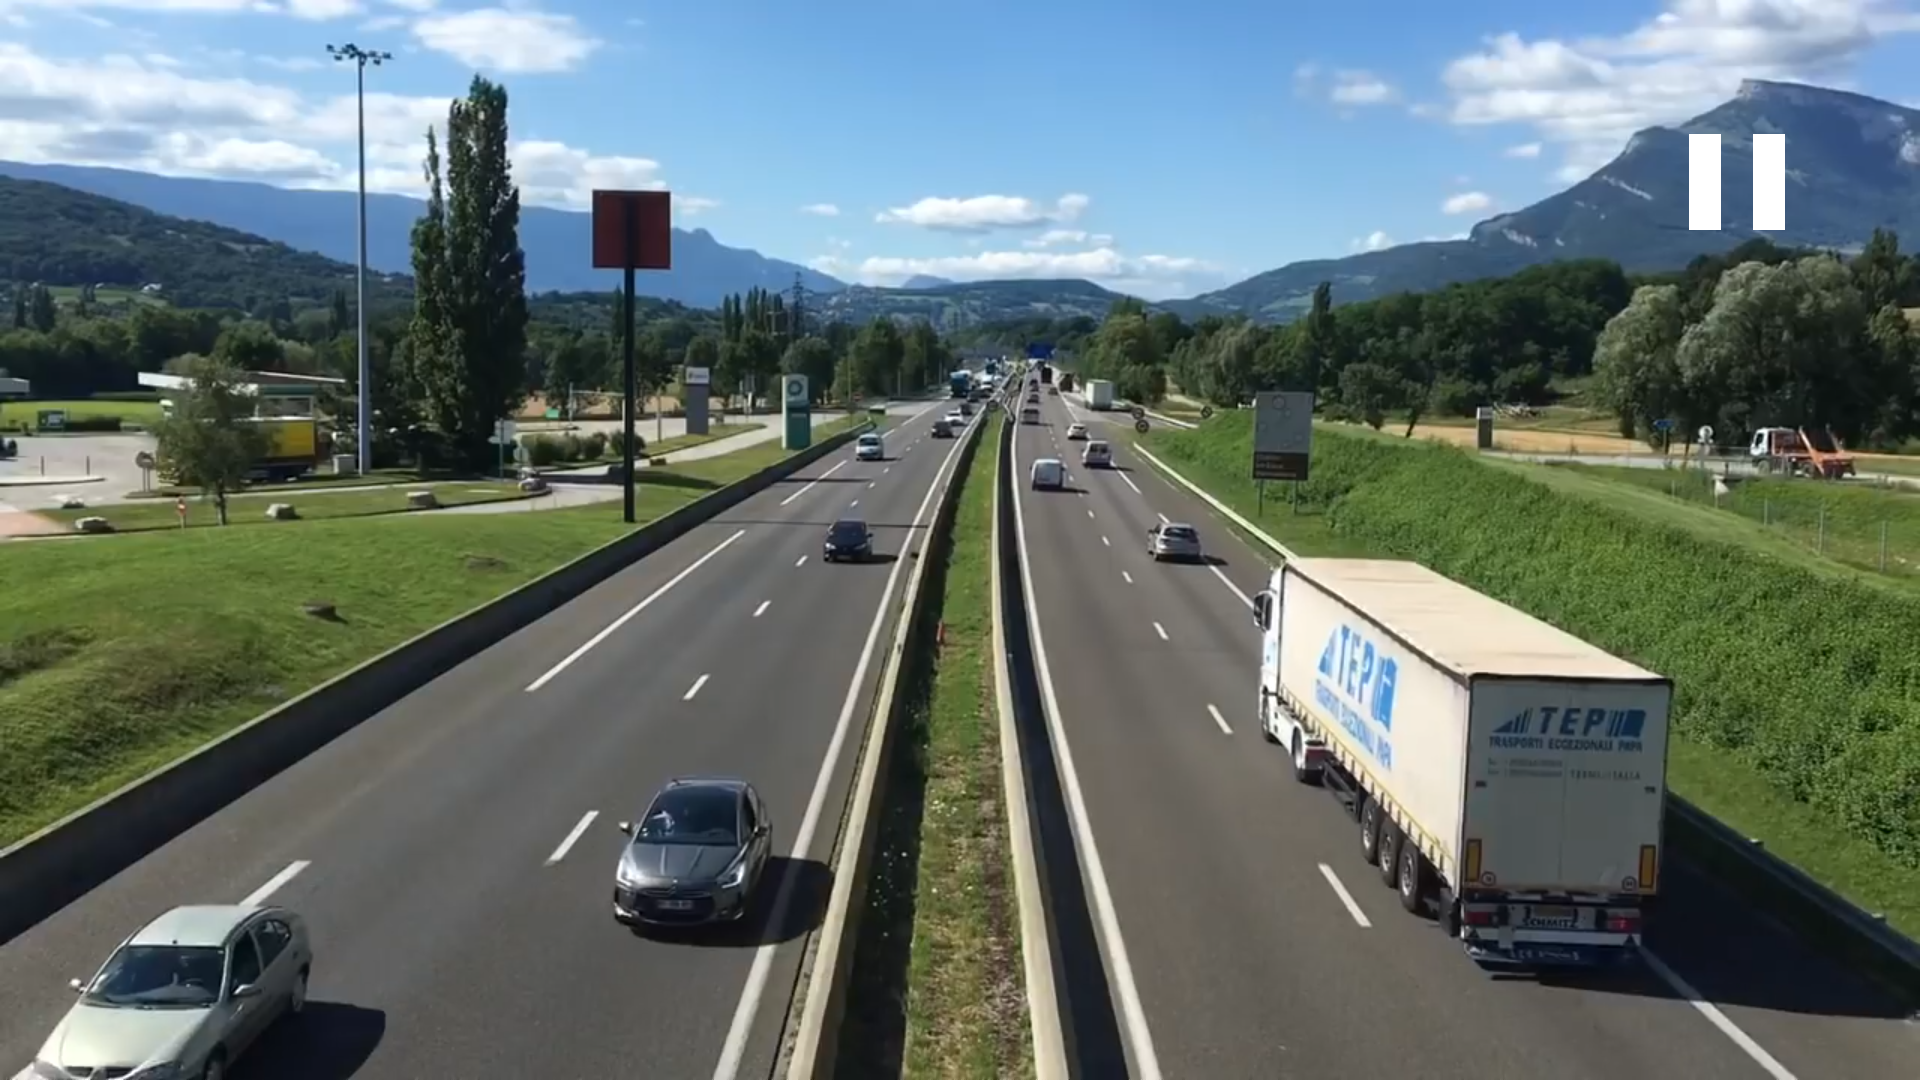HeavyVehicle: (1255, 542, 1701, 997)
LightVehicle: (7, 897, 328, 1080), (612, 771, 783, 945), (1149, 517, 1211, 566), (818, 517, 877, 564), (1023, 458, 1068, 491)
